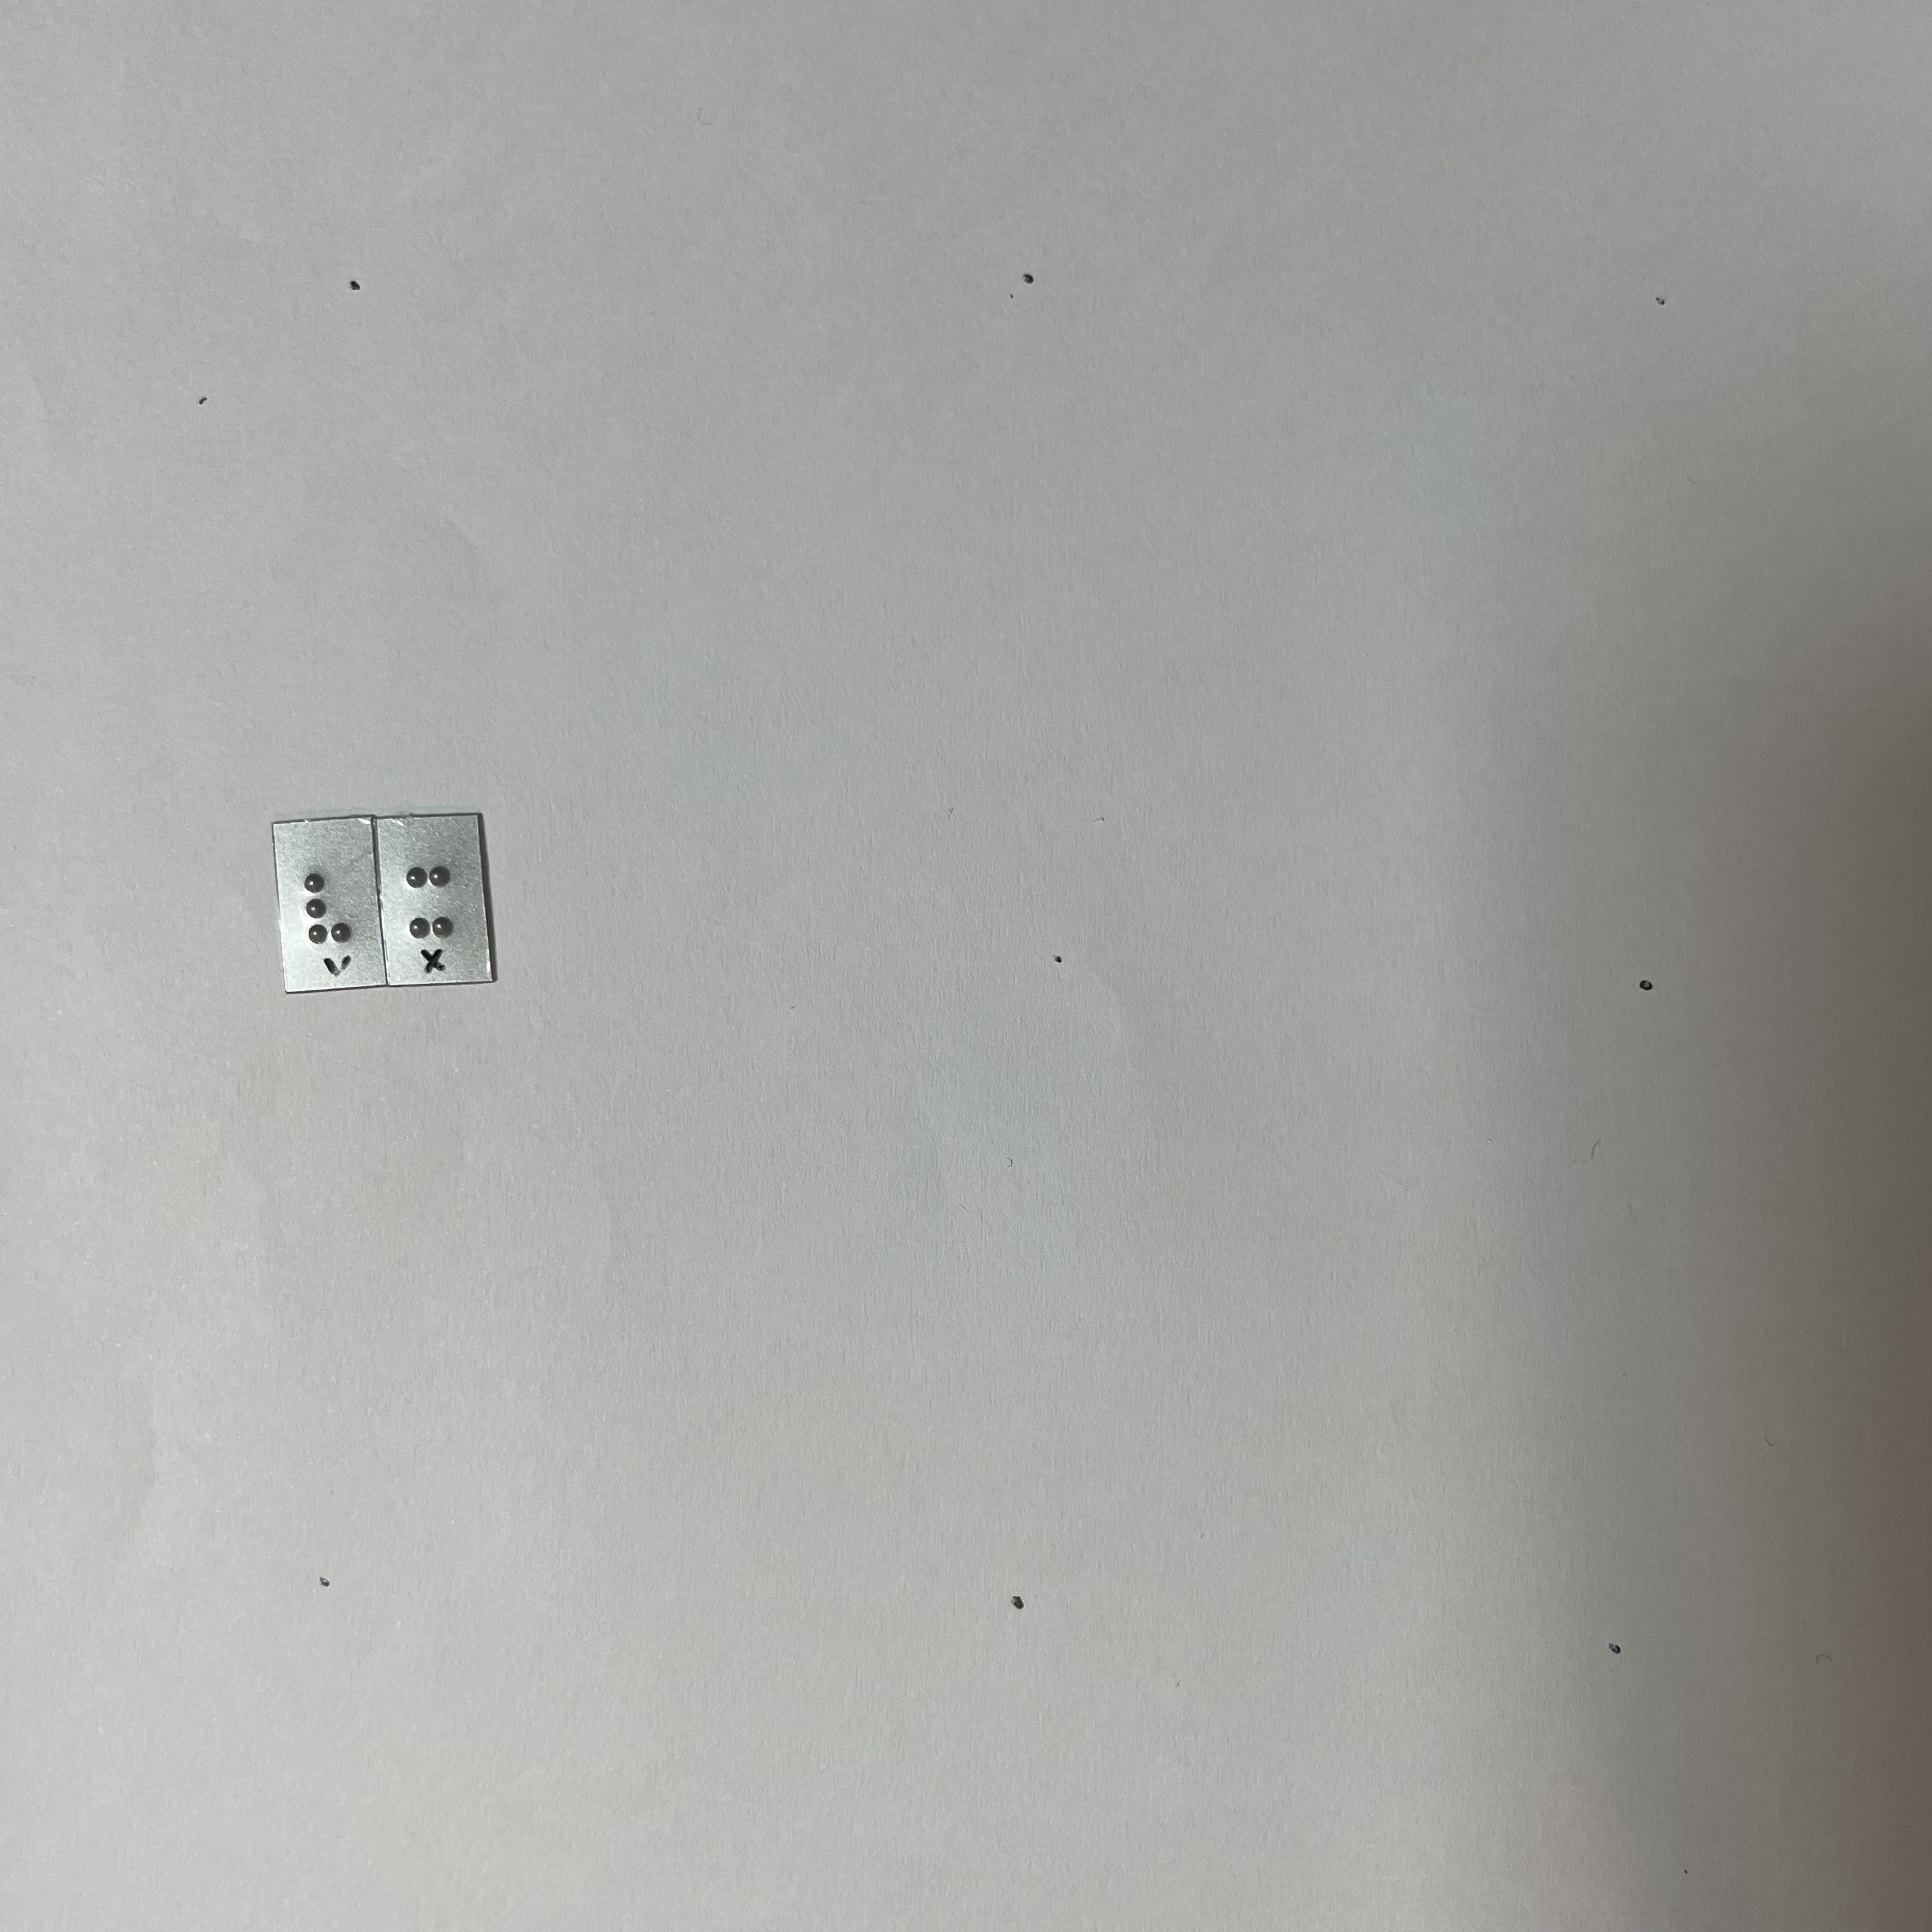v: (293, 868, 357, 951)
x: (397, 850, 463, 940)
